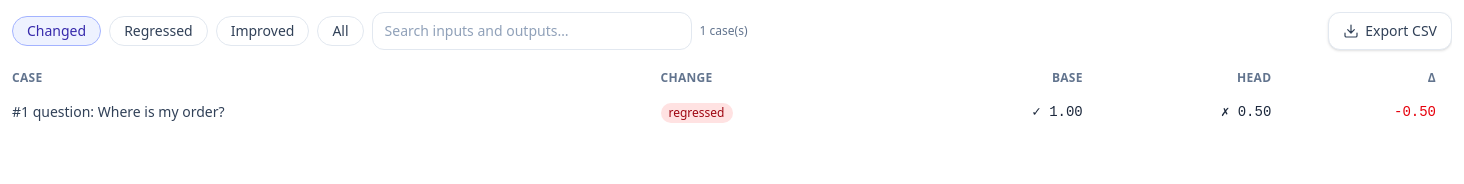
Test: CompareTable › shows only changed cases by default and all cases on demand
The width and height of the screenshot is (1464, 184).
expect the row with test id "compare-row-1" is shown: met, box x1=12 y1=94 x2=1452 y2=130
What coordinates should you click on to do the following:
click the tab "All"
I would click on:
 (340, 31)
Its box is x1=317 y1=16 x2=364 y2=46.
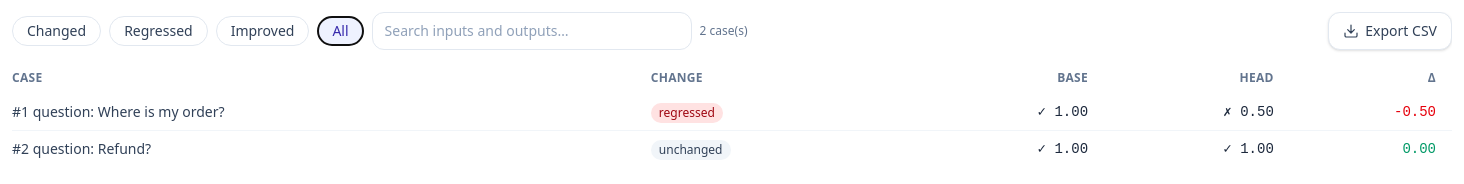
expect the row with test id "compare-row-2" is shown: met, box x1=12 y1=130 x2=1452 y2=167
